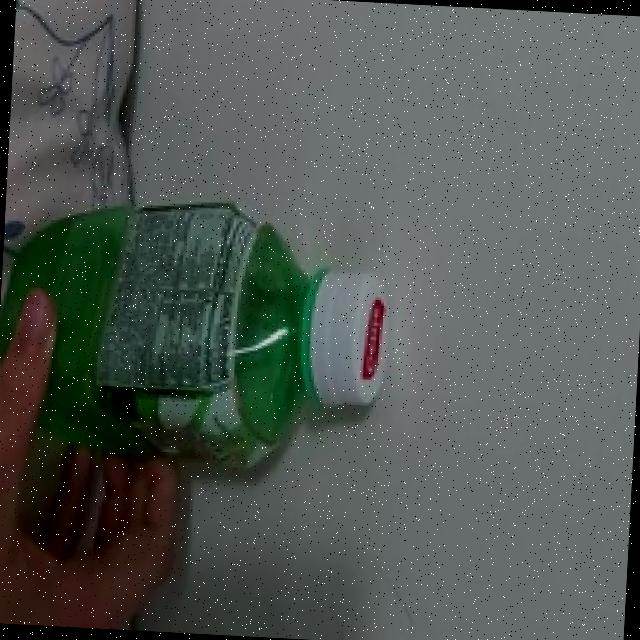bottle: (0, 170, 405, 491)
cap: (294, 265, 411, 416)
label: (95, 203, 277, 472)
